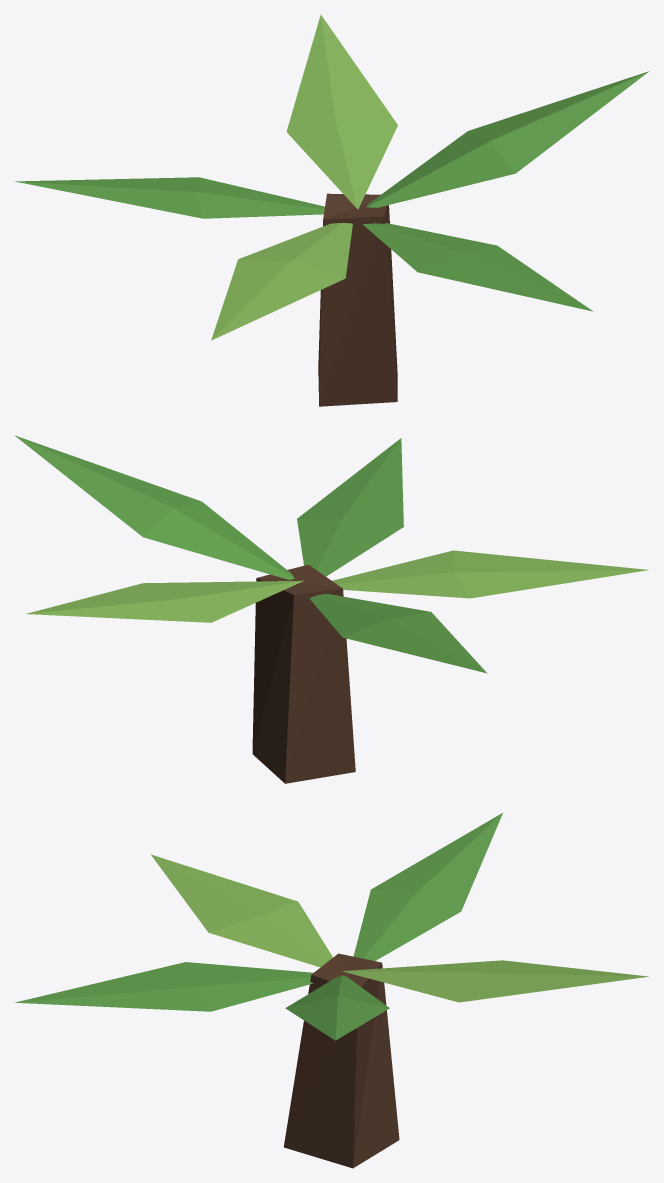
The model's file is world_fern_b.obj.
3 renders of one model, top to bottom at view 1: azimuth 30°, elevation 25°; view 2: azimuth 150°, elevation 25°; view 3: azimuth 270°, elevation 25°, orthographic. The views are drawn at different scales.
Visible parts, largest first — view 1: world_fern_b; view 2: world_fern_b; view 3: world_fern_b.
Boxes of the visible parts, x1,y1,x2,y2 form: world_fern_b: (14, 14, 649, 406); world_fern_b: (14, 435, 648, 783); world_fern_b: (15, 813, 648, 1168).
Bounding box in the file's own units: 3.49 × 1.53 × 3.53.
